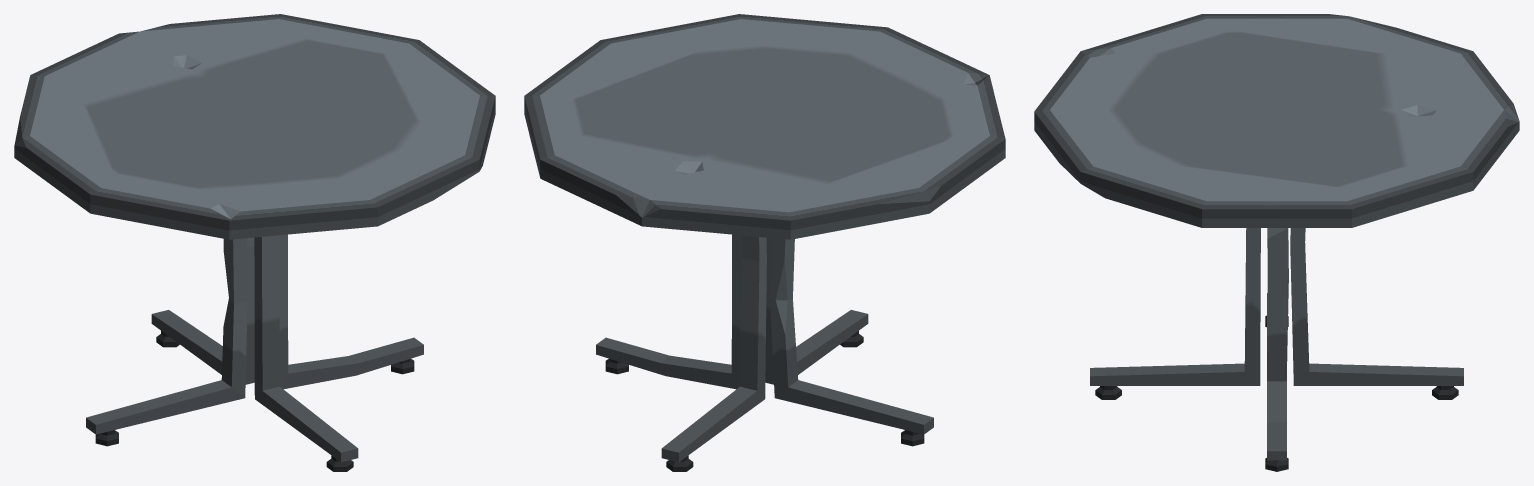
File: SM_Prop_Table_02.fbx
The picture shows the model from 3 angles, left to right: view 1: azimuth 30°, elevation 25°; view 2: azimuth 150°, elevation 25°; view 3: azimuth 270°, elevation 25°; orthographic projection.
Parts seen in each view (by area): view 1: SM_Prop_Table_02; view 2: SM_Prop_Table_02; view 3: SM_Prop_Table_02.
Boxes of the visible parts, x1,y1,x2,y2 form: SM_Prop_Table_02: (14,14,495,471); SM_Prop_Table_02: (524,14,1005,471); SM_Prop_Table_02: (1034,14,1519,471).
Bounding box in the file's own units: 114 × 77.75 × 120.
